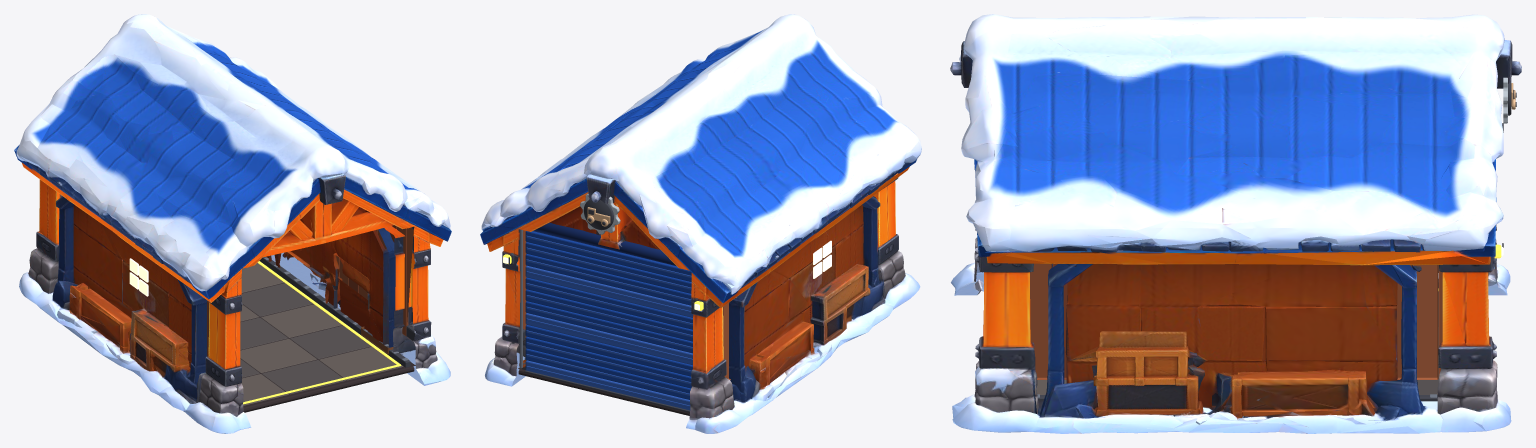
File: snow_garage.glb
The picture shows the model from 3 angles, left to right: view 1: azimuth 30°, elevation 25°; view 2: azimuth 150°, elevation 25°; view 3: azimuth 270°, elevation 25°; orthographic projection. The views are drawn at different scales.
Parts seen in each view (by area): view 1: MeshyGarageRoofAndGables, MeshyGarageWallsAndFootings, RetainedGarageServiceHardware; view 2: MeshyGarageRoofAndGables, MeshyGarageWallsAndFootings, RetainedGarageServiceHardware, Slat01Geometry, Slat12Geometry, Slat05Geometry, Slat07Geometry, Slat08Geometry, Slat06Geometry, Slat09Geometry, Slat04Geometry, Slat10Geometry (+4 smaller); view 3: MeshyGarageRoofAndGables, MeshyGarageWallsAndFootings, RetainedGarageServiceHardware.
Part boxes in pixels (x1,y1,x2,y2): MeshyGarageRoofAndGables: (21,14,448,278); MeshyGarageWallsAndFootings: (14,140,451,433); RetainedGarageServiceHardware: (59,194,415,412); MeshyGarageRoofAndGables: (485,14,919,277); MeshyGarageWallsAndFootings: (480,140,921,433); RetainedGarageServiceHardware: (503,222,835,415); Slat01Geometry: (524,360,690,412); Slat12Geometry: (525,231,691,281); Slat05Geometry: (525,313,692,365); Slat07Geometry: (525,289,692,341); Slat08Geometry: (525,277,692,329); Slat06Geometry: (525,301,692,353); Slat09Geometry: (525,265,693,317); Slat04Geometry: (525,325,692,376); Slat10Geometry: (525,254,691,305); MeshyGarageRoofAndGables: (950,14,1521,229); MeshyGarageWallsAndFootings: (951,218,1511,433); RetainedGarageServiceHardware: (1030,121,1503,401).
Bounding box in the file's own units: 4.3 × 4 × 6.18.
Materials: 18 (1 with a texture image).
